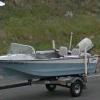Boat: (1, 35, 96, 89)
